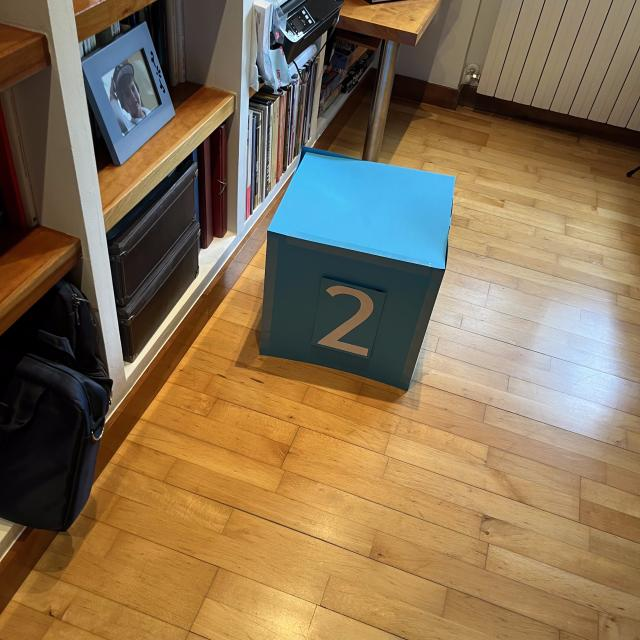box: (255, 142, 458, 394)
